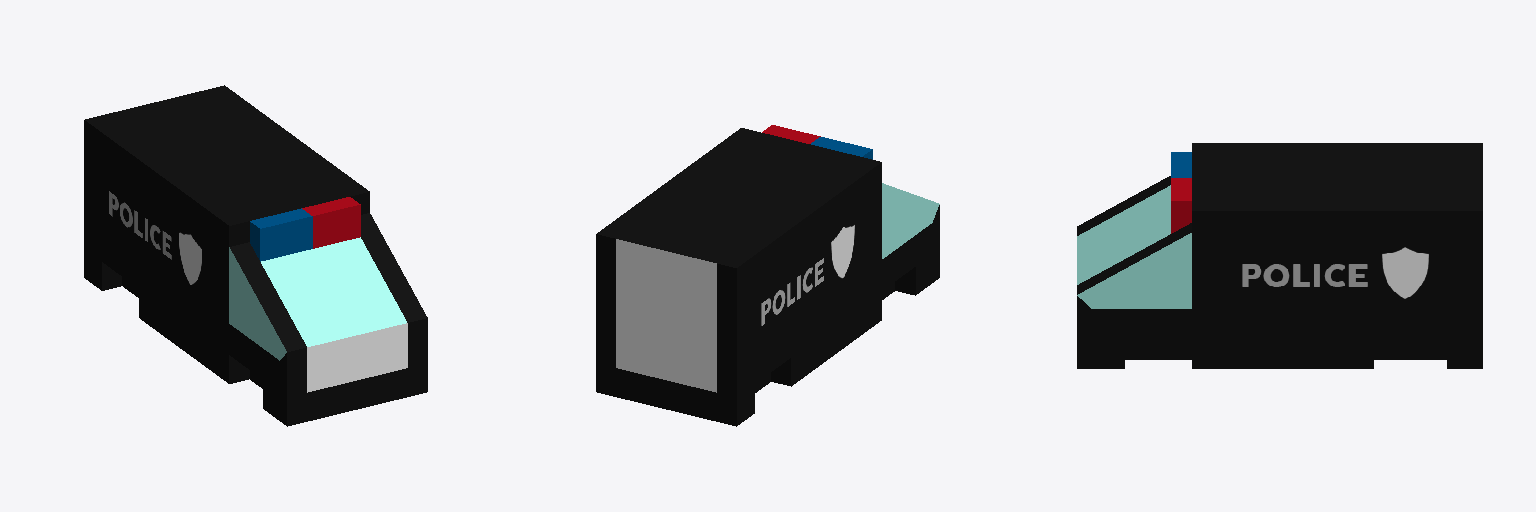
3 views of the same model, side by side, from view 1: azimuth 30°, elevation 25°; view 2: azimuth 150°, elevation 25°; view 3: azimuth 270°, elevation 25° (orthographic).
Parts seen in each view (by area): view 1: pCube1; view 2: pCube1; view 3: pCube1.
Boxes of the visible parts, box(x1,y1,x2,y2) form: pCube1: box(84, 85, 427, 426); pCube1: box(596, 125, 939, 426); pCube1: box(1077, 143, 1482, 368).
Bounding box in the file's own units: 7.54 × 8.11 × 18.86.
Materials: 1 (1 with a texture image).